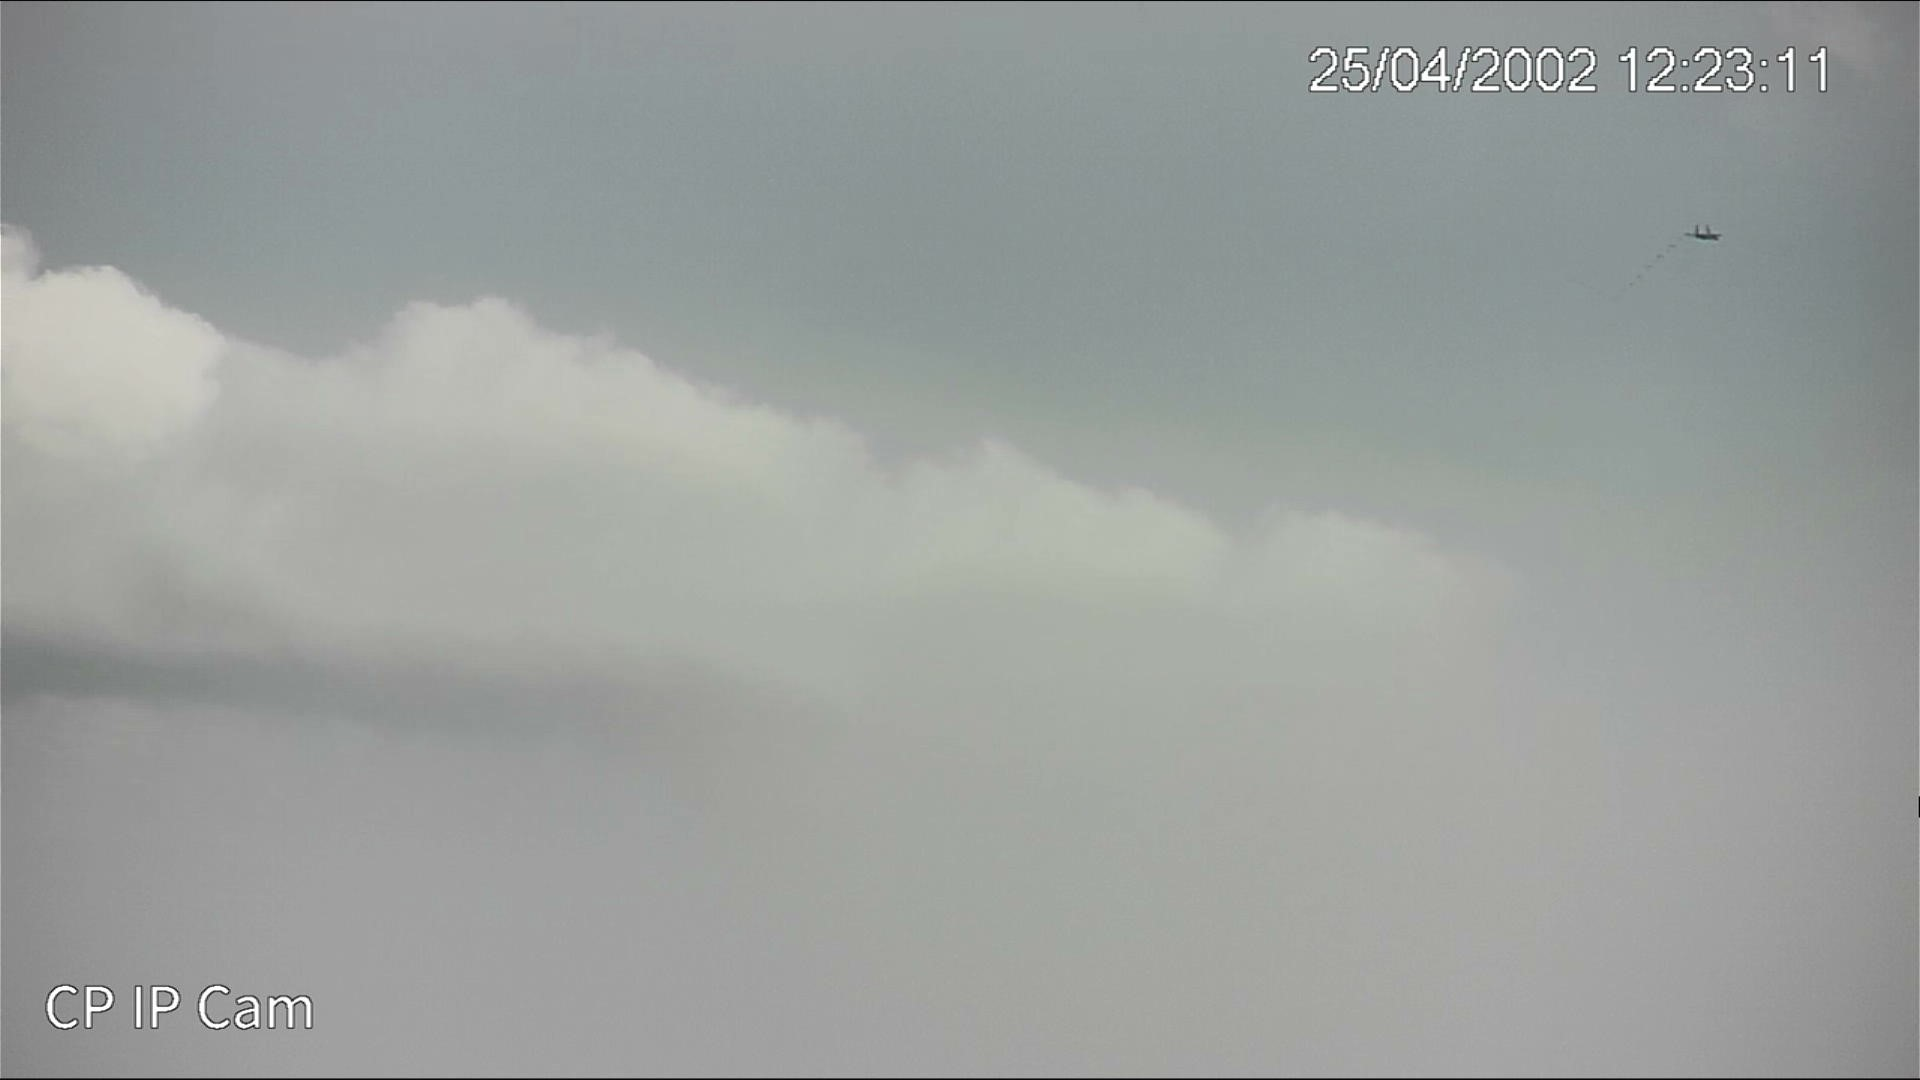SU_30: (1684, 225, 1718, 240)
